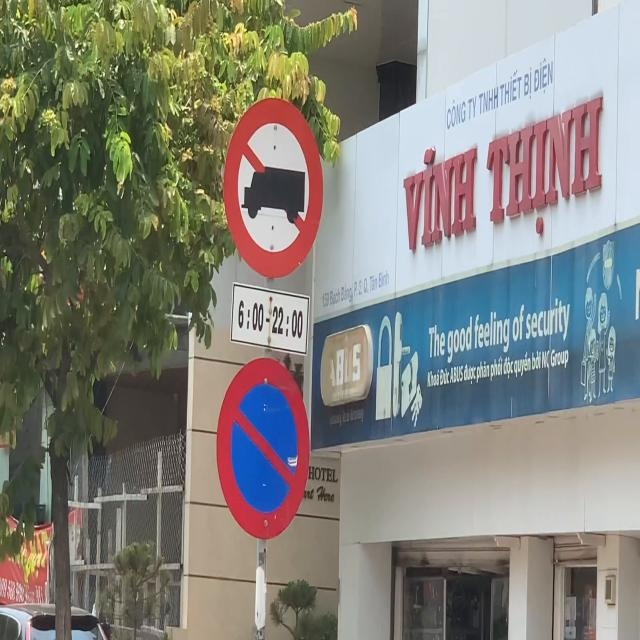bien_cam: (222, 96, 324, 280), (215, 357, 311, 542)
